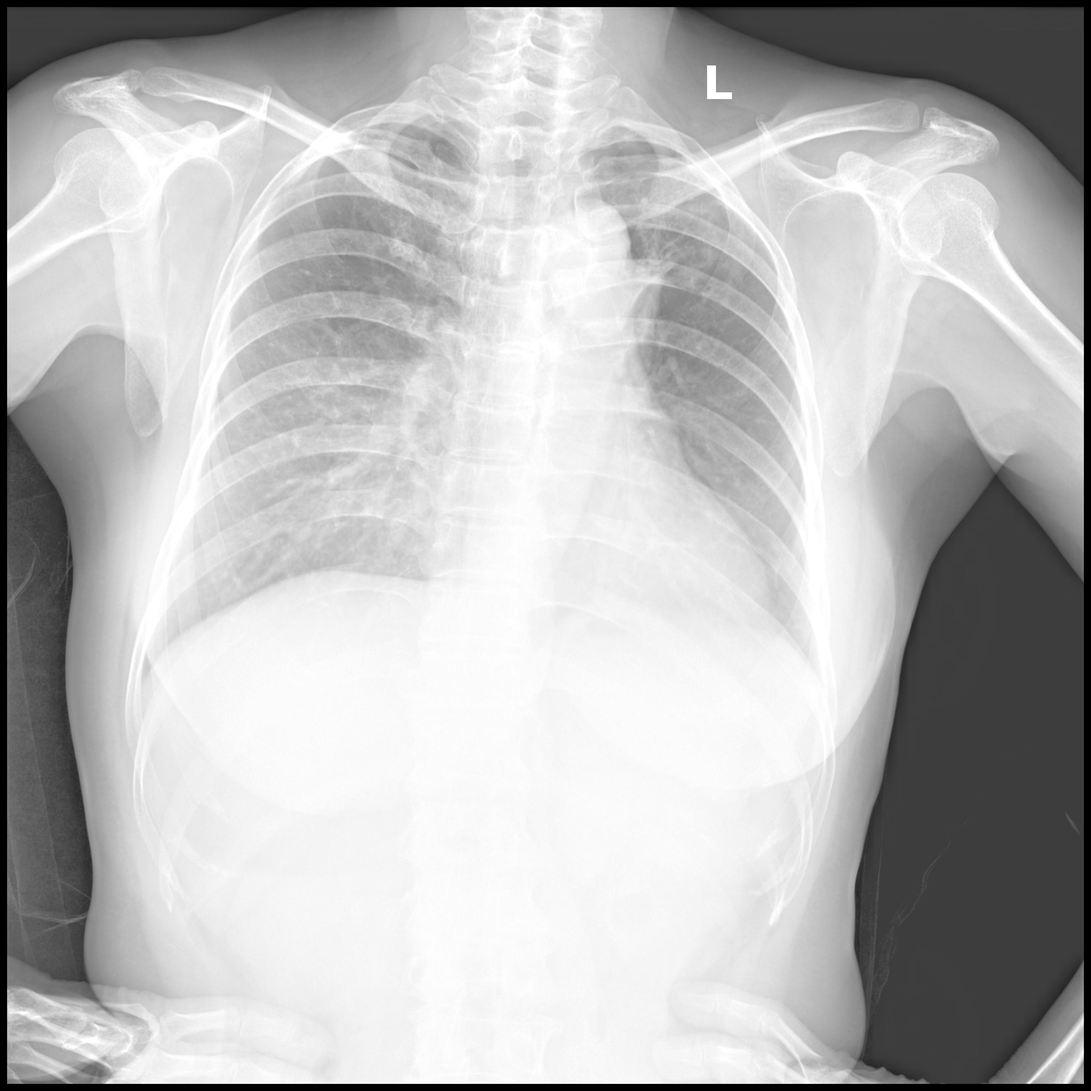Aortic enlargement: (530, 194, 631, 316)
Pleural thickening: (377, 121, 441, 143), (594, 141, 651, 158)
Pulmonary fibrosis: (622, 227, 727, 324)
